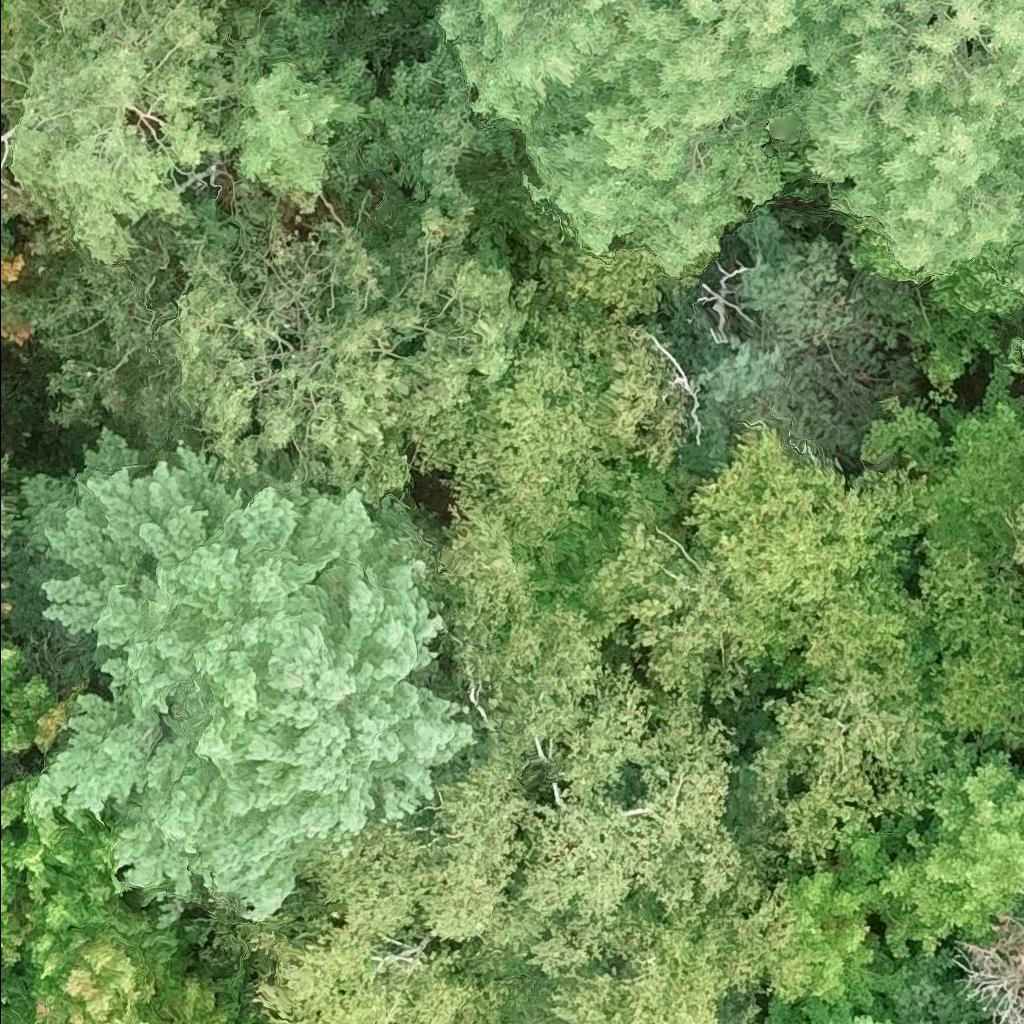crown: (289, 491, 751, 952), (31, 430, 471, 914), (0, 149, 545, 511), (380, 0, 813, 281), (14, 0, 366, 271), (634, 210, 943, 478), (687, 426, 969, 708), (422, 290, 710, 561), (796, 0, 1023, 273), (252, 844, 570, 1023), (0, 793, 242, 1023), (827, 711, 1023, 960), (523, 876, 825, 1023), (863, 368, 1023, 604), (578, 479, 740, 707), (755, 674, 940, 866), (764, 870, 989, 1023), (480, 156, 675, 321), (847, 222, 1023, 384), (927, 546, 1023, 746), (0, 780, 45, 974), (961, 905, 1023, 1023), (0, 644, 60, 756), (0, 0, 33, 97), (0, 239, 25, 303), (0, 317, 42, 350), (0, 491, 19, 554), (1012, 513, 1023, 565), (1016, 333, 1023, 365), (854, 1020, 888, 1023), (0, 456, 6, 464), (1021, 280, 1023, 293)
